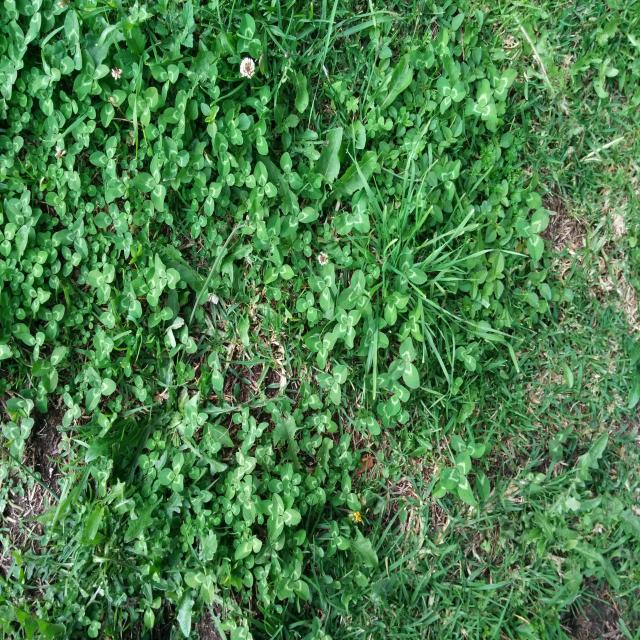Four Leaf Clover: (332, 306, 361, 348)
